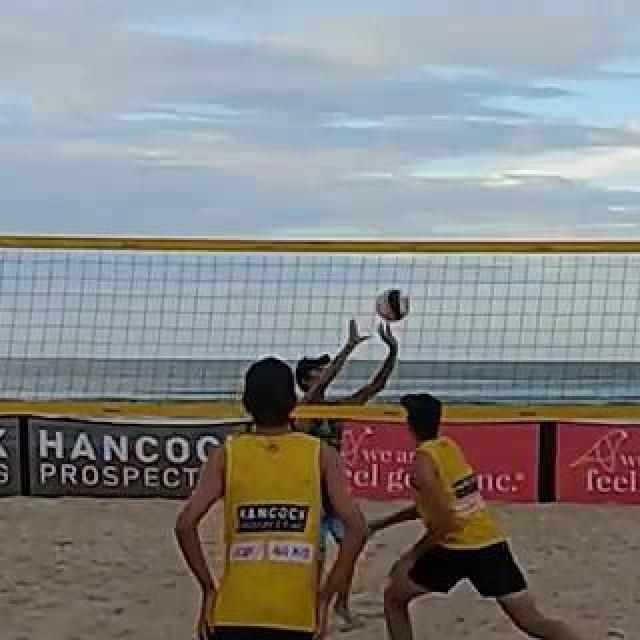volleyball: (376, 290, 408, 322)
